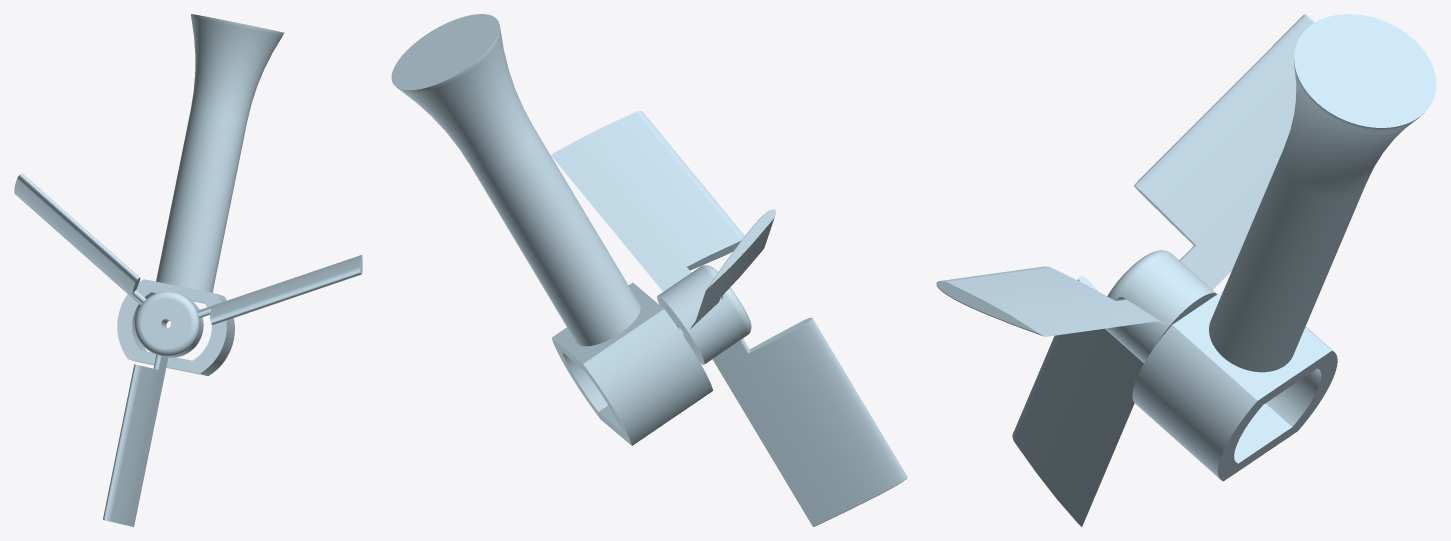
File: Turbine_Assembly.gltf
3 views of the same model, side by side, from view 1: azimuth 30°, elevation 25°; view 2: azimuth 150°, elevation 25°; view 3: azimuth 270°, elevation 25° (orthographic). The views are drawn at different scales.
Visible parts, largest first — view 1: Part 1 (×5); view 2: Part 1 (×5); view 3: Part 1 (×5).
Part boxes in pixels (bbox=[...]): Part 1 (×5): bbox=[14, 14, 362, 526]; Part 1 (×5): bbox=[391, 14, 907, 526]; Part 1 (×5): bbox=[936, 14, 1436, 526].
Bounding box in the file's own units: 0.0853 × 0.1172 × 0.0836.
